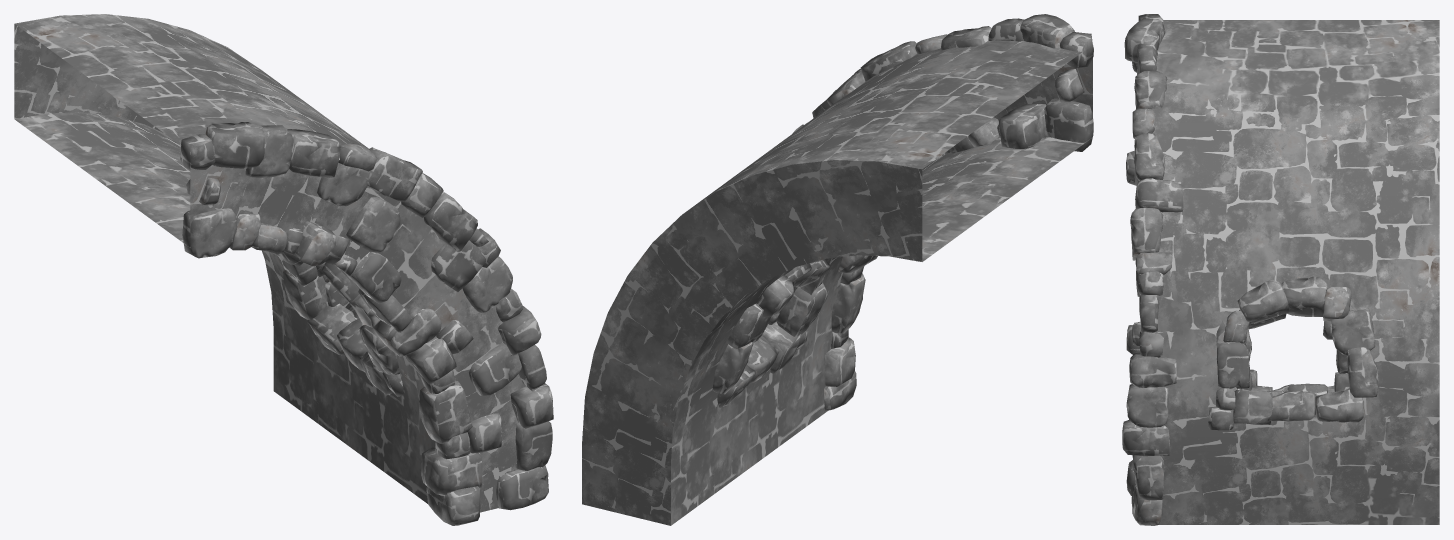
File: Half_Roof_Window_SidePiece_Right.fbx
3 views of the same model, side by side, from view 1: azimuth 30°, elevation 25°; view 2: azimuth 150°, elevation 25°; view 3: azimuth 270°, elevation 25° (orthographic). The views are drawn at different scales.
Visible parts, largest first — view 1: Half_Roof_Window_01.001, Rocks_07.001; view 2: Half_Roof_Window_01.001, Rocks_07.001; view 3: Half_Roof_Window_01.001, Rocks_07.001.
Boxes of the visible parts, <box> form: Half_Roof_Window_01.001: <box>14,14,525,512</box>; Rocks_07.001: <box>180,122,553,525</box>; Half_Roof_Window_01.001: <box>582,40,1092,525</box>; Rocks_07.001: <box>712,14,1093,410</box>; Half_Roof_Window_01.001: <box>1144,20,1439,524</box>; Rocks_07.001: <box>1122,14,1378,525</box>.
Size of the model in its own units: 5.99 by 6.99 by 5.37.
